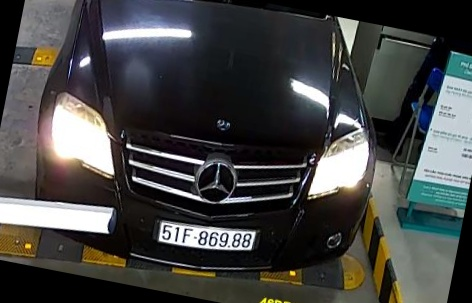plate: (153, 215, 265, 258)
